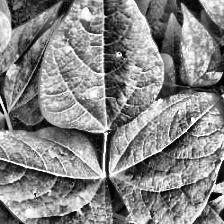Bean Rust: (40, 0, 162, 135), (112, 79, 224, 224), (0, 126, 99, 224)
